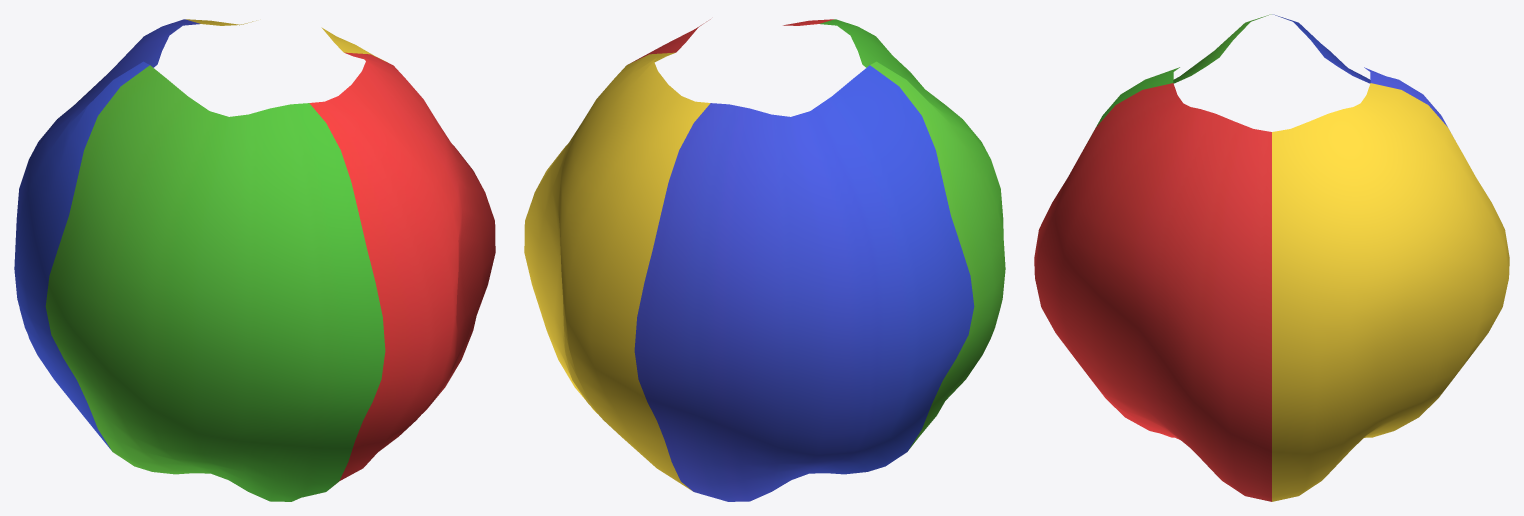
The model's file is scan.glb.
3 views of the same model, side by side, from view 1: azimuth 30°, elevation 25°; view 2: azimuth 150°, elevation 25°; view 3: azimuth 270°, elevation 25° (orthographic). The views are drawn at different scales.
Visible parts, largest first — view 1: Scan; view 2: Scan; view 3: Scan.
Part boxes in pixels (box(x1,y1,x2,y2)): Scan: box(14, 19, 495, 501); Scan: box(524, 19, 1005, 501); Scan: box(1034, 14, 1509, 501).
Size of the model in its own units: 1.07 by 0.9863 by 1.1.
1 material, 1 textured.
